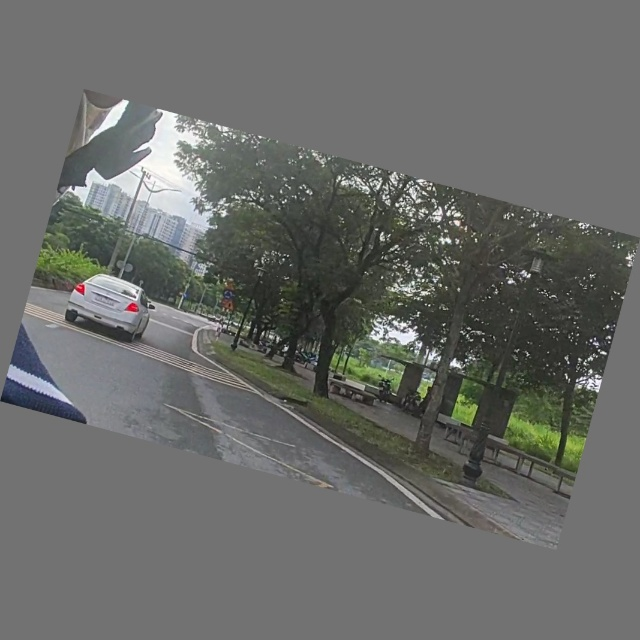P.102: (178, 290, 184, 297)
R.303: (223, 290, 234, 300)
W.207: (222, 300, 236, 312)
